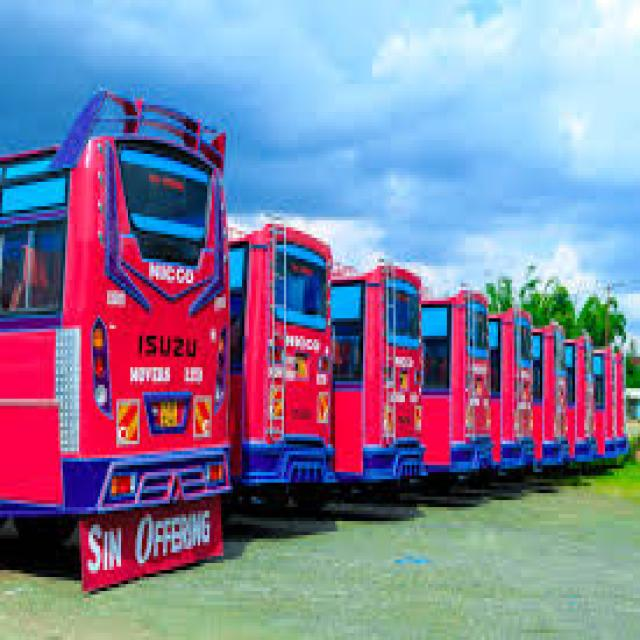bus: (0, 41, 239, 604), (230, 112, 344, 576)
